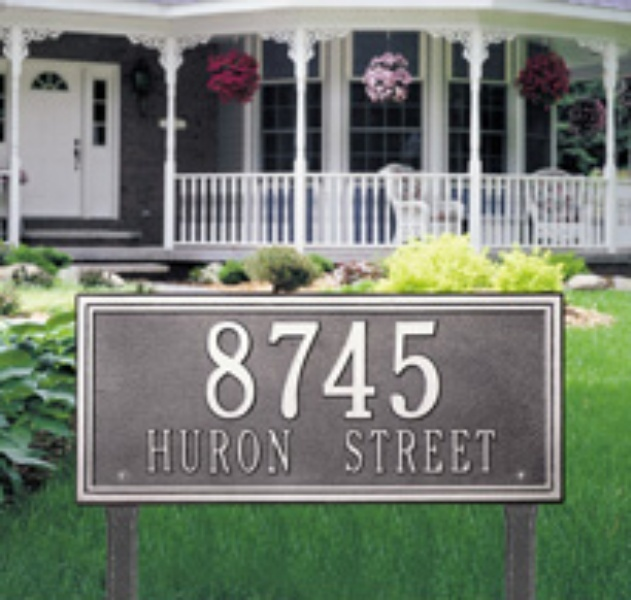text: (209, 319, 224, 421), (225, 319, 240, 421), (241, 319, 256, 421), (257, 319, 272, 421), (273, 319, 288, 421), (289, 319, 304, 421), (305, 319, 320, 421), (321, 319, 336, 421), (337, 319, 352, 421), (353, 319, 368, 421), (369, 319, 384, 421), (385, 319, 400, 421), (401, 319, 416, 421), (417, 319, 432, 421), (433, 319, 443, 421), (161, 427, 176, 477), (177, 427, 192, 477), (193, 427, 208, 477), (209, 427, 224, 477), (225, 427, 240, 477), (241, 427, 256, 477), (257, 427, 272, 477), (273, 427, 288, 477), (353, 427, 368, 474), (369, 427, 384, 474), (385, 427, 400, 474), (401, 427, 416, 474), (417, 427, 432, 474), (433, 427, 448, 474), (449, 427, 464, 474), (465, 427, 480, 474), (481, 427, 496, 474), (146, 427, 160, 477), (344, 427, 352, 474), (205, 319, 208, 421), (289, 427, 291, 477), (497, 427, 498, 474)
